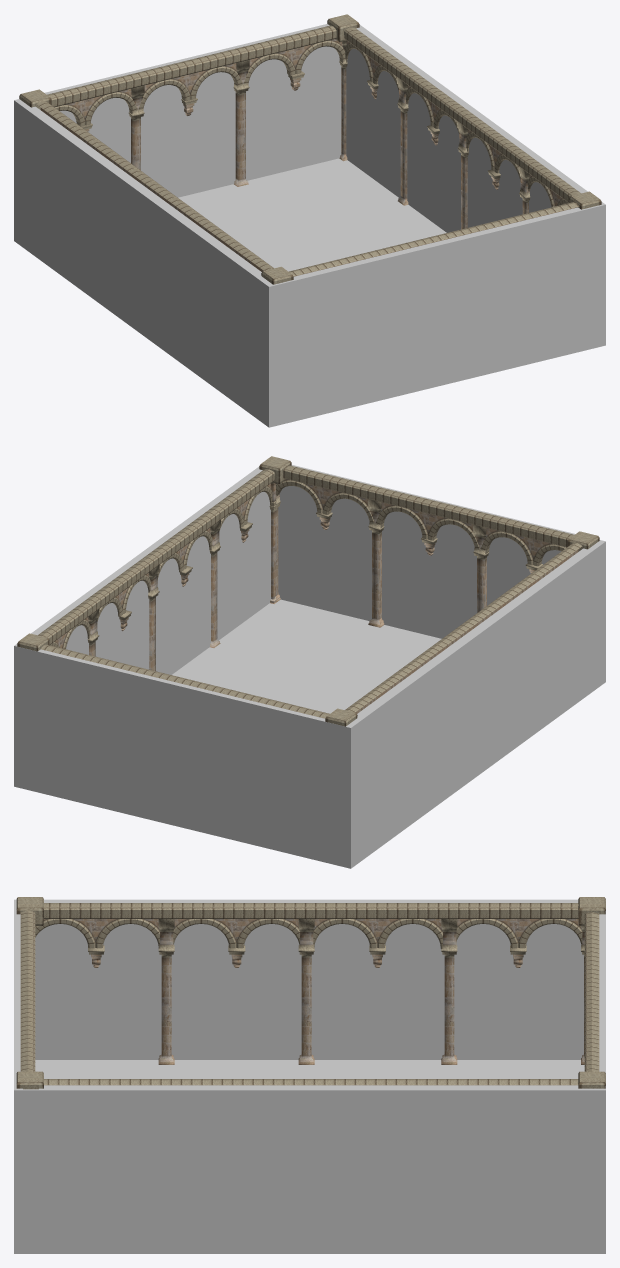
The model's file is RoomIndoor.fbx.
The picture shows the model from 3 angles, top to bottom: view 1: azimuth 30°, elevation 25°; view 2: azimuth 150°, elevation 25°; view 3: azimuth 270°, elevation 25°; orthographic projection. The views are drawn at different scales.
Visible parts, largest first — view 1: Plane, Cube_031, Circle_023, Circle_000, Circle_001, Circle_005, Circle_003, Circle_019, Circle_004; view 2: Plane, Cube_031, Circle_023, Circle_003, Circle_002, Circle_005, Circle_000, Circle_019, Cube_004, Circle_004; view 3: Plane, Cube_031, Circle_005, Circle_004, Circle_023, Circle_003, Circle_000.
Part boxes in pixels (bbox=[...]): Plane: bbox=[14, 24, 605, 427]; Cube_031: bbox=[19, 14, 601, 284]; Circle_023: bbox=[344, 27, 580, 202]; Circle_000: bbox=[47, 25, 336, 107]; Circle_001: bbox=[55, 39, 345, 126]; Circle_005: bbox=[36, 101, 273, 270]; Circle_003: bbox=[289, 202, 579, 276]; Circle_019: bbox=[345, 41, 568, 207]; Circle_004: bbox=[40, 108, 263, 271]; Plane: bbox=[14, 465, 605, 868]; Cube_031: bbox=[17, 456, 599, 726]; Circle_023: bbox=[38, 469, 274, 644]; Circle_003: bbox=[283, 465, 573, 547]; Circle_002: bbox=[276, 479, 566, 566]; Circle_005: bbox=[345, 543, 582, 712]; Circle_000: bbox=[41, 644, 329, 718]; Circle_019: bbox=[50, 483, 272, 649]; Cube_004: bbox=[269, 482, 280, 603]; Circle_004: bbox=[355, 549, 578, 713]; Plane: bbox=[14, 899, 605, 1253]; Cube_031: bbox=[16, 897, 605, 1088]; Circle_005: bbox=[43, 903, 578, 918]; Circle_004: bbox=[35, 919, 582, 948]; Circle_023: bbox=[44, 1079, 578, 1085]; Circle_003: bbox=[20, 910, 35, 1071]; Circle_000: bbox=[584, 912, 599, 1071].
Bounding box in the file's own units: 24.38 × 10.1 × 31.96.
4 materials, 2 textured.
